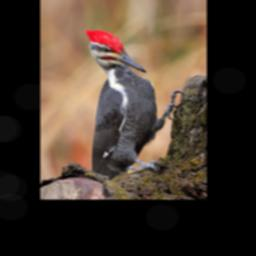Woodpecker: (86, 29, 186, 179)
